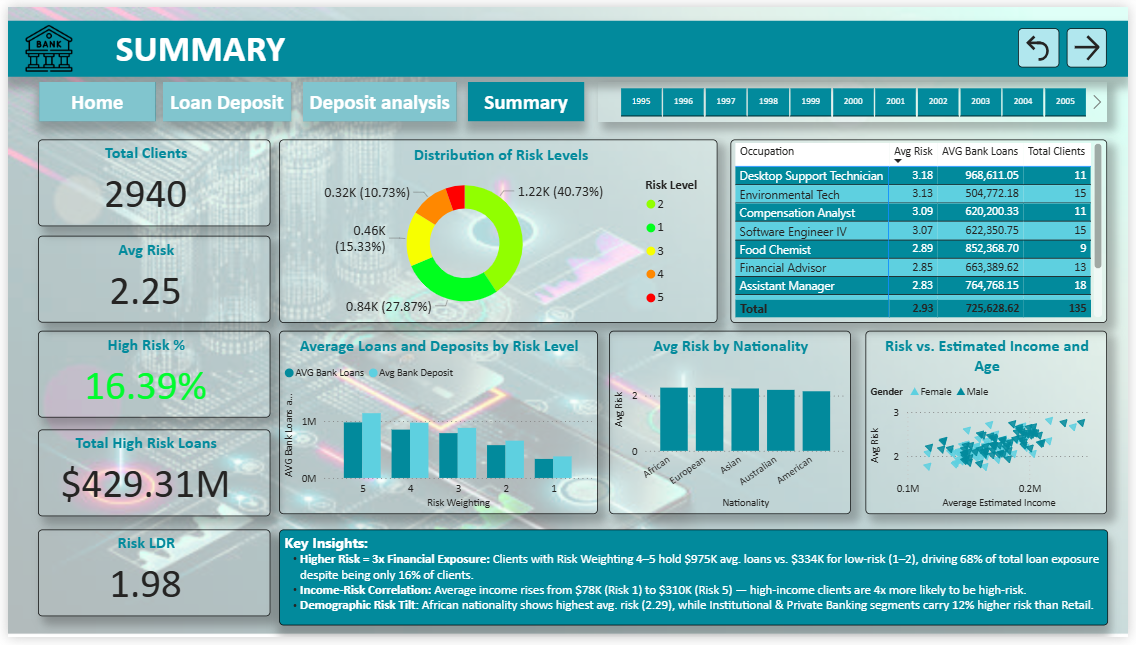

The page's visual inventory and layout, read from the dashboard file:
{"tool":"powerbi","page":{"name":"Summary","canvas":[1280,720],"ordinal":3},"visuals":[{"type":"textbox","box":[0,15,1280,63.8],"z":0},{"type":"image","box":[0,15,93.8,63.8],"z":1000},{"type":"actionButton","box":[1154.7,24.9,47.2,44.7],"z":2000},{"type":"slicer","fields":{"Values":["Banking.Joined Bank.Variation.Date Hierarchy.Year"]},"box":[673.7,85.8,581.7,46],"z":3000},{"type":"textbox","box":[35,86.2,132.5,45],"z":4000},{"type":"textbox","box":[177.5,86.2,146.2,45],"z":5000},{"type":"textbox","box":[525,86.2,132.5,45],"z":6000},{"type":"textbox","box":[337.5,86.2,175,45],"z":7000},{"type":"actionButton","box":[35,86.2,132.5,45],"z":8000},{"type":"actionButton","box":[177.5,86.2,146.2,45],"z":9000},{"type":"actionButton","box":[337.5,86.2,175,45],"z":10000},{"type":"actionButton","box":[525,86.2,132.5,45],"z":11000},{"type":"card","title":"Total Clients","fields":{"Values":["DAX Measures.Total Clients"]},"box":[34.8,151.6,266,99.4],"z":12000},{"type":"card","title":"Avg Risk","fields":{"Values":["DAX Measures.Avg Risk"]},"box":[34.8,261,266,99.4],"z":13000},{"type":"card","title":"Total High Risk Loans","fields":{"Values":["DAX Measures.High Risk Loans"]},"box":[34.8,482.3,266,99.4],"z":14000},{"type":"card","title":"High Risk %","fields":{"Values":["DAX Measures.High Risk %"]},"box":[34.8,370.4,266,99.4],"z":15000},{"type":"card","title":"Risk LDR","fields":{"Values":["DAX Measures.Risk LDR"]},"box":[34.8,596.6,266,99.4],"z":16000},{"type":"donutChart","title":"Distribution of Risk Levels","fields":{"Y":["CountNonNull(Banking.Client ID)"],"Category":["Banking.Risk Weighting"]},"box":[310.4,151.5,500.5,209.4],"z":17000},{"type":"clusteredColumnChart","title":"Average Loans and Deposits by Risk Level","fields":{"Category":["Banking.Risk Weighting"],"Y":["DAX Measures.AVG Bank Loans","DAX Measures.Avg Bank Deposit"]},"box":[310.4,369.8,363.9,209.4],"z":18000},{"type":"columnChart","fields":{"Category":["Banking.Nationality"],"Y":["DAX Measures.Avg Risk"]},"box":[687.7,369.8,276.3,209.4],"z":19000},{"type":"scatterChart","title":"Risk vs. Estimated Income and Age","fields":{"X":["DAX Measures.Average Estimated Income"],"Y":["DAX Measures.Avg Risk"],"Series":["Gender.Gender"],"Category":["Banking.Age"]},"box":[980.3,369.8,276.3,209.4],"z":20000},{"type":"pivotTable","fields":{"Rows":["Banking.Occupation"],"Values":["DAX Measures.Avg Risk","DAX Measures.AVG Bank Loans","DAX Measures.Total Clients"]},"box":[825.8,151.5,430.7,209.4],"z":21000},{"type":"textbox","box":[309.5,596.6,947.1,109.4],"z":22000},{"type":"actionButton","box":[1210.6,24.9,46,44.7],"z":23000}]}

Visuals, with their boxes in screenshot pixels (x1, y1, x2, y2), scaled from the page's 1280x720 canvas onto the 1136x645 screenshot:
textbox: bbox=(0, 13, 1135, 71)
image: bbox=(0, 13, 83, 71)
actionButton: bbox=(1025, 22, 1067, 62)
slicer - Banking.Joined Bank.Variation.Date Hierarchy.Year: bbox=(598, 77, 1114, 118)
textbox: bbox=(31, 77, 149, 118)
textbox: bbox=(158, 77, 287, 118)
textbox: bbox=(466, 77, 584, 118)
textbox: bbox=(300, 77, 455, 118)
actionButton: bbox=(31, 77, 149, 118)
actionButton: bbox=(158, 77, 287, 118)
actionButton: bbox=(300, 77, 455, 118)
actionButton: bbox=(466, 77, 584, 118)
"Total Clients" card: bbox=(31, 136, 267, 225)
"Avg Risk" card: bbox=(31, 234, 267, 323)
"Total High Risk Loans" card: bbox=(31, 432, 267, 521)
"High Risk %" card: bbox=(31, 332, 267, 421)
"Risk LDR" card: bbox=(31, 534, 267, 624)
"Distribution of Risk Levels" donutChart: bbox=(275, 136, 720, 323)
"Average Loans and Deposits by Risk Level" clusteredColumnChart: bbox=(275, 331, 598, 519)
columnChart - Banking.Nationality x DAX Measures.Avg Risk: bbox=(610, 331, 856, 519)
"Risk vs. Estimated Income and Age" scatterChart: bbox=(870, 331, 1115, 519)
pivotTable - Banking.Occupation x DAX Measures.Avg Risk: bbox=(733, 136, 1115, 323)
textbox: bbox=(275, 534, 1115, 632)
actionButton: bbox=(1074, 22, 1115, 62)
